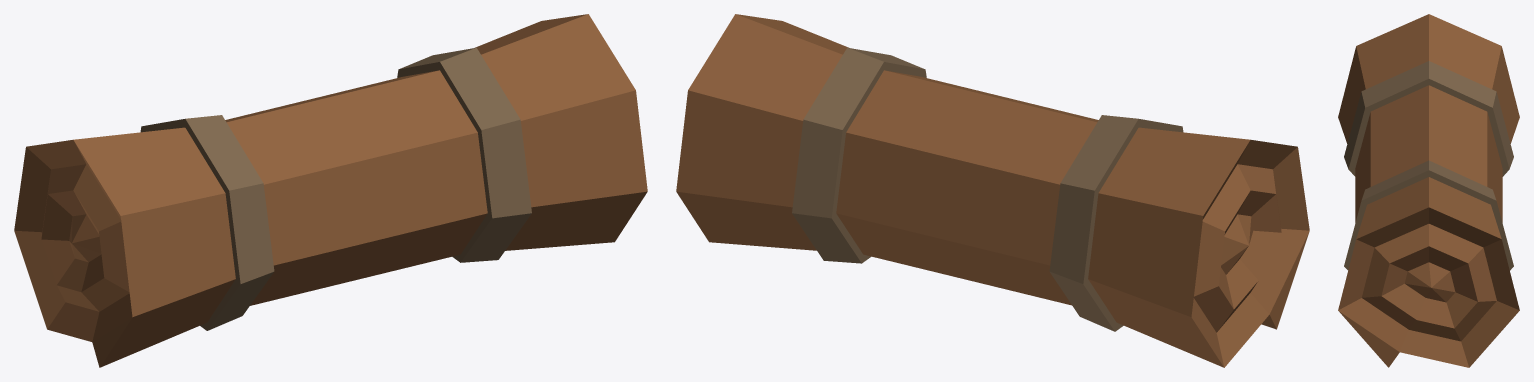
The model's file is BedRoll.fbx.
3 views of the same model, side by side, from view 1: azimuth 30°, elevation 25°; view 2: azimuth 150°, elevation 25°; view 3: azimuth 270°, elevation 25° (orthographic). The views are drawn at different scales.
Parts seen in each view (by area): view 1: BedRoll; view 2: BedRoll; view 3: BedRoll.
Part boxes in pixels (<box>): BedRoll: <box>14,14,647,367</box>; BedRoll: <box>676,14,1309,367</box>; BedRoll: <box>1338,14,1519,367</box>.
Size of the model in its own units: 116 by 45.12 by 46.28.
